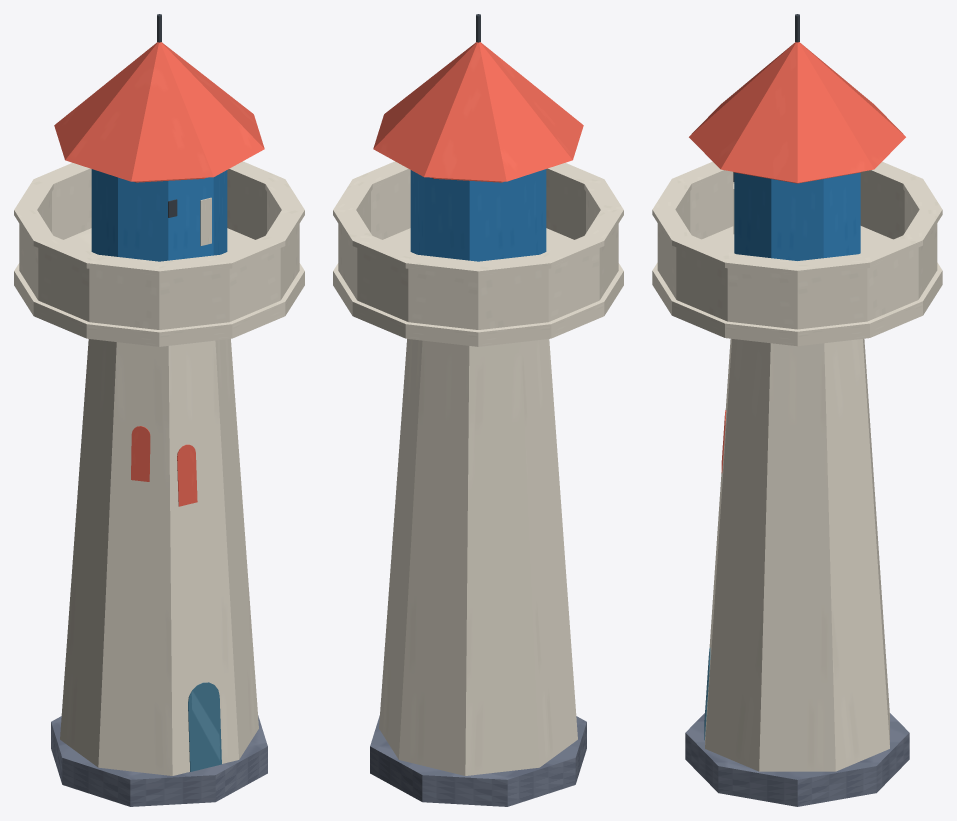
The model's file is lighthouse.glb.
The picture shows the model from 3 angles, left to right: view 1: azimuth 30°, elevation 25°; view 2: azimuth 150°, elevation 25°; view 3: azimuth 270°, elevation 25°; orthographic projection.
Parts seen in each view (by area): view 1: lighthouse; view 2: lighthouse; view 3: lighthouse.
Part boxes in pixels (x1,y1,x2,y2): lighthouse: (14, 14, 304, 806); lighthouse: (333, 14, 623, 806); lighthouse: (652, 14, 942, 806).
Size of the model in its own units: 2.72 by 7.7 by 2.72.
Materials: 6 (6 with a texture image).
